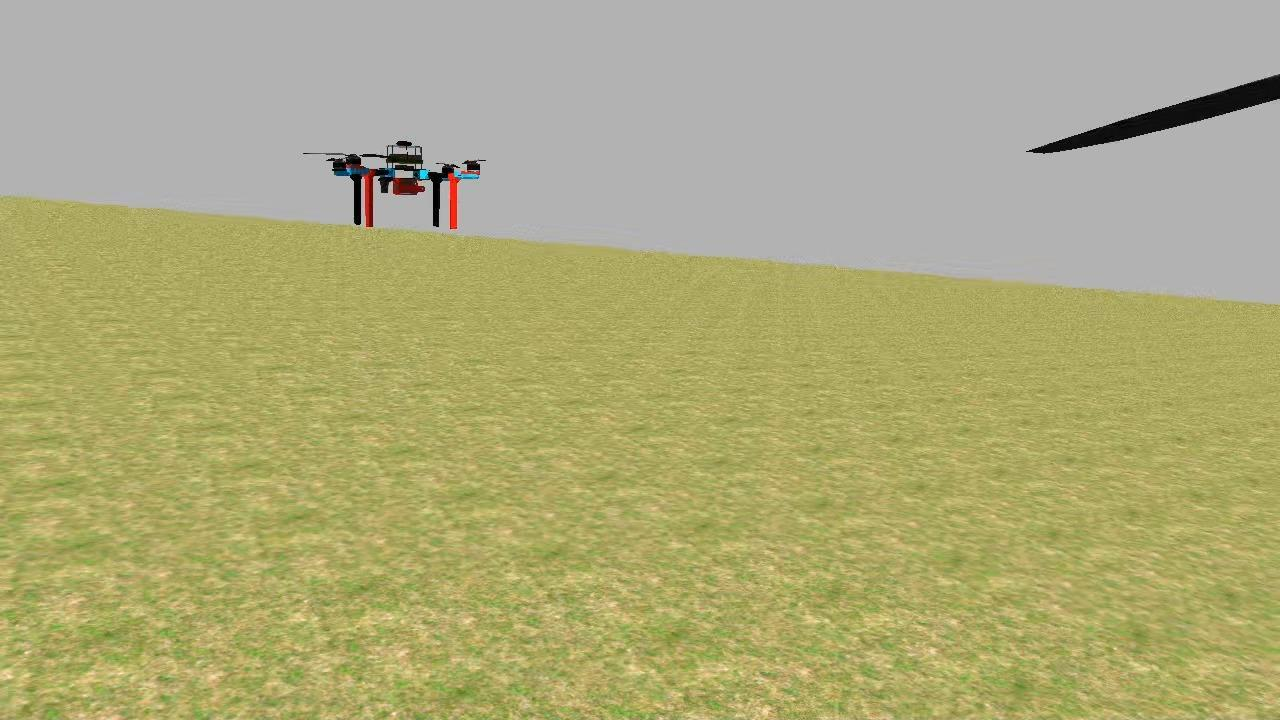UAV: (323, 132, 488, 237)
